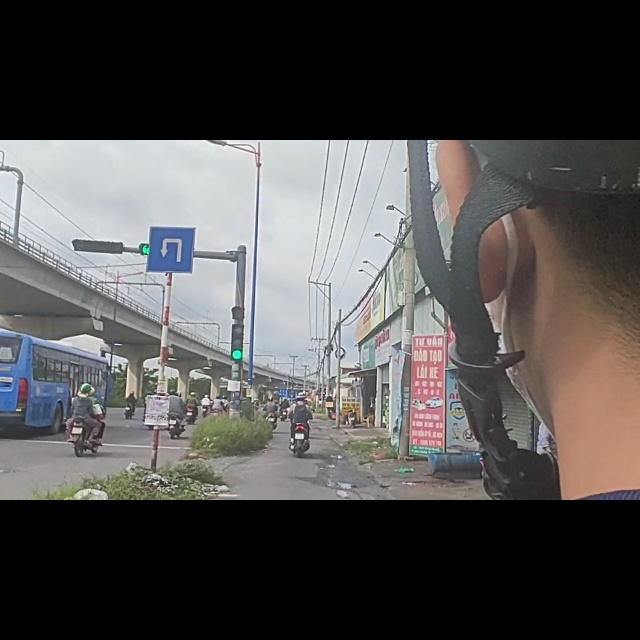bien_chi_dan: (147, 143, 204, 252)
